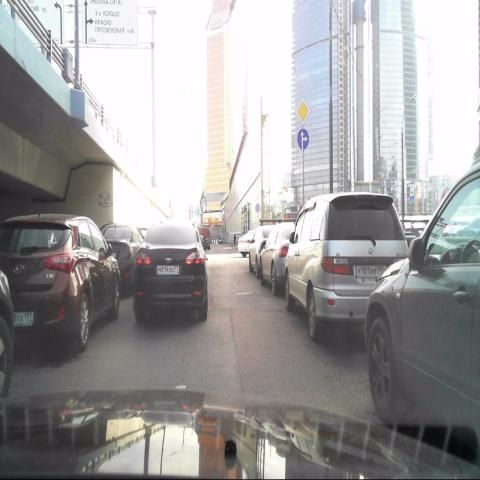4_1_4: (296, 127, 310, 151)
